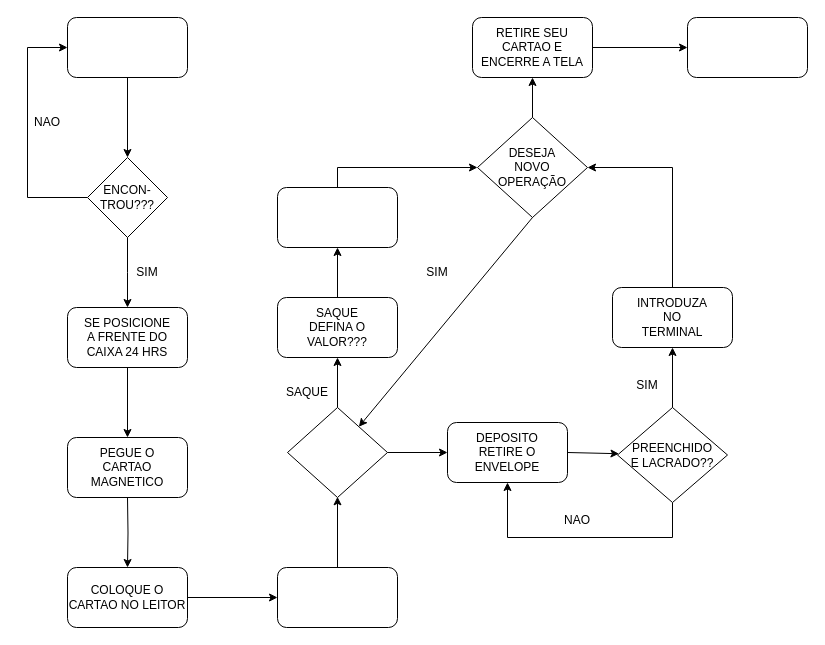
Image size: 825x645. Some labels were removed from this diagram. Each missing label, with the box of its shape:
DIGITE SUA SENHA: (276, 566, 398, 628)
ENCAMINHA-SE PARA A PORTA E SAIA: (686, 16, 808, 78)
ESCOLHA A FUNÇÃO: (286, 406, 388, 498)
PROCURAR CAIXA ELETRONICO: (66, 16, 188, 78)
RETIRE O VALOR PEDIDO: (276, 186, 398, 248)
